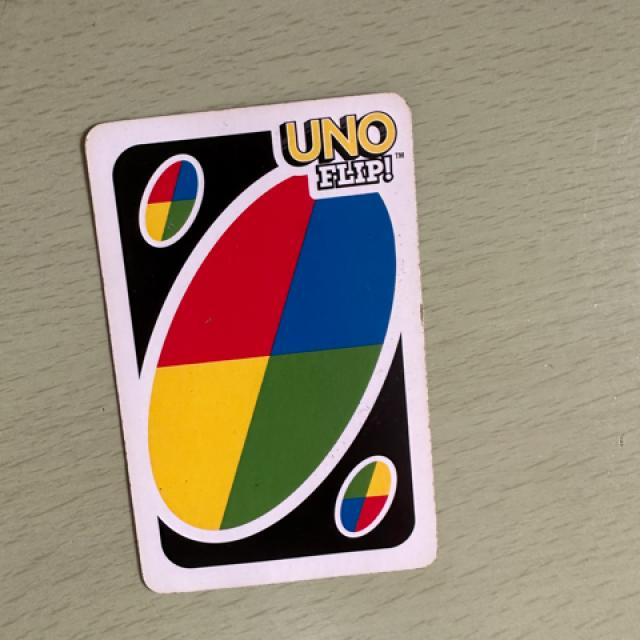lcolor-40: (107, 141, 208, 251)
